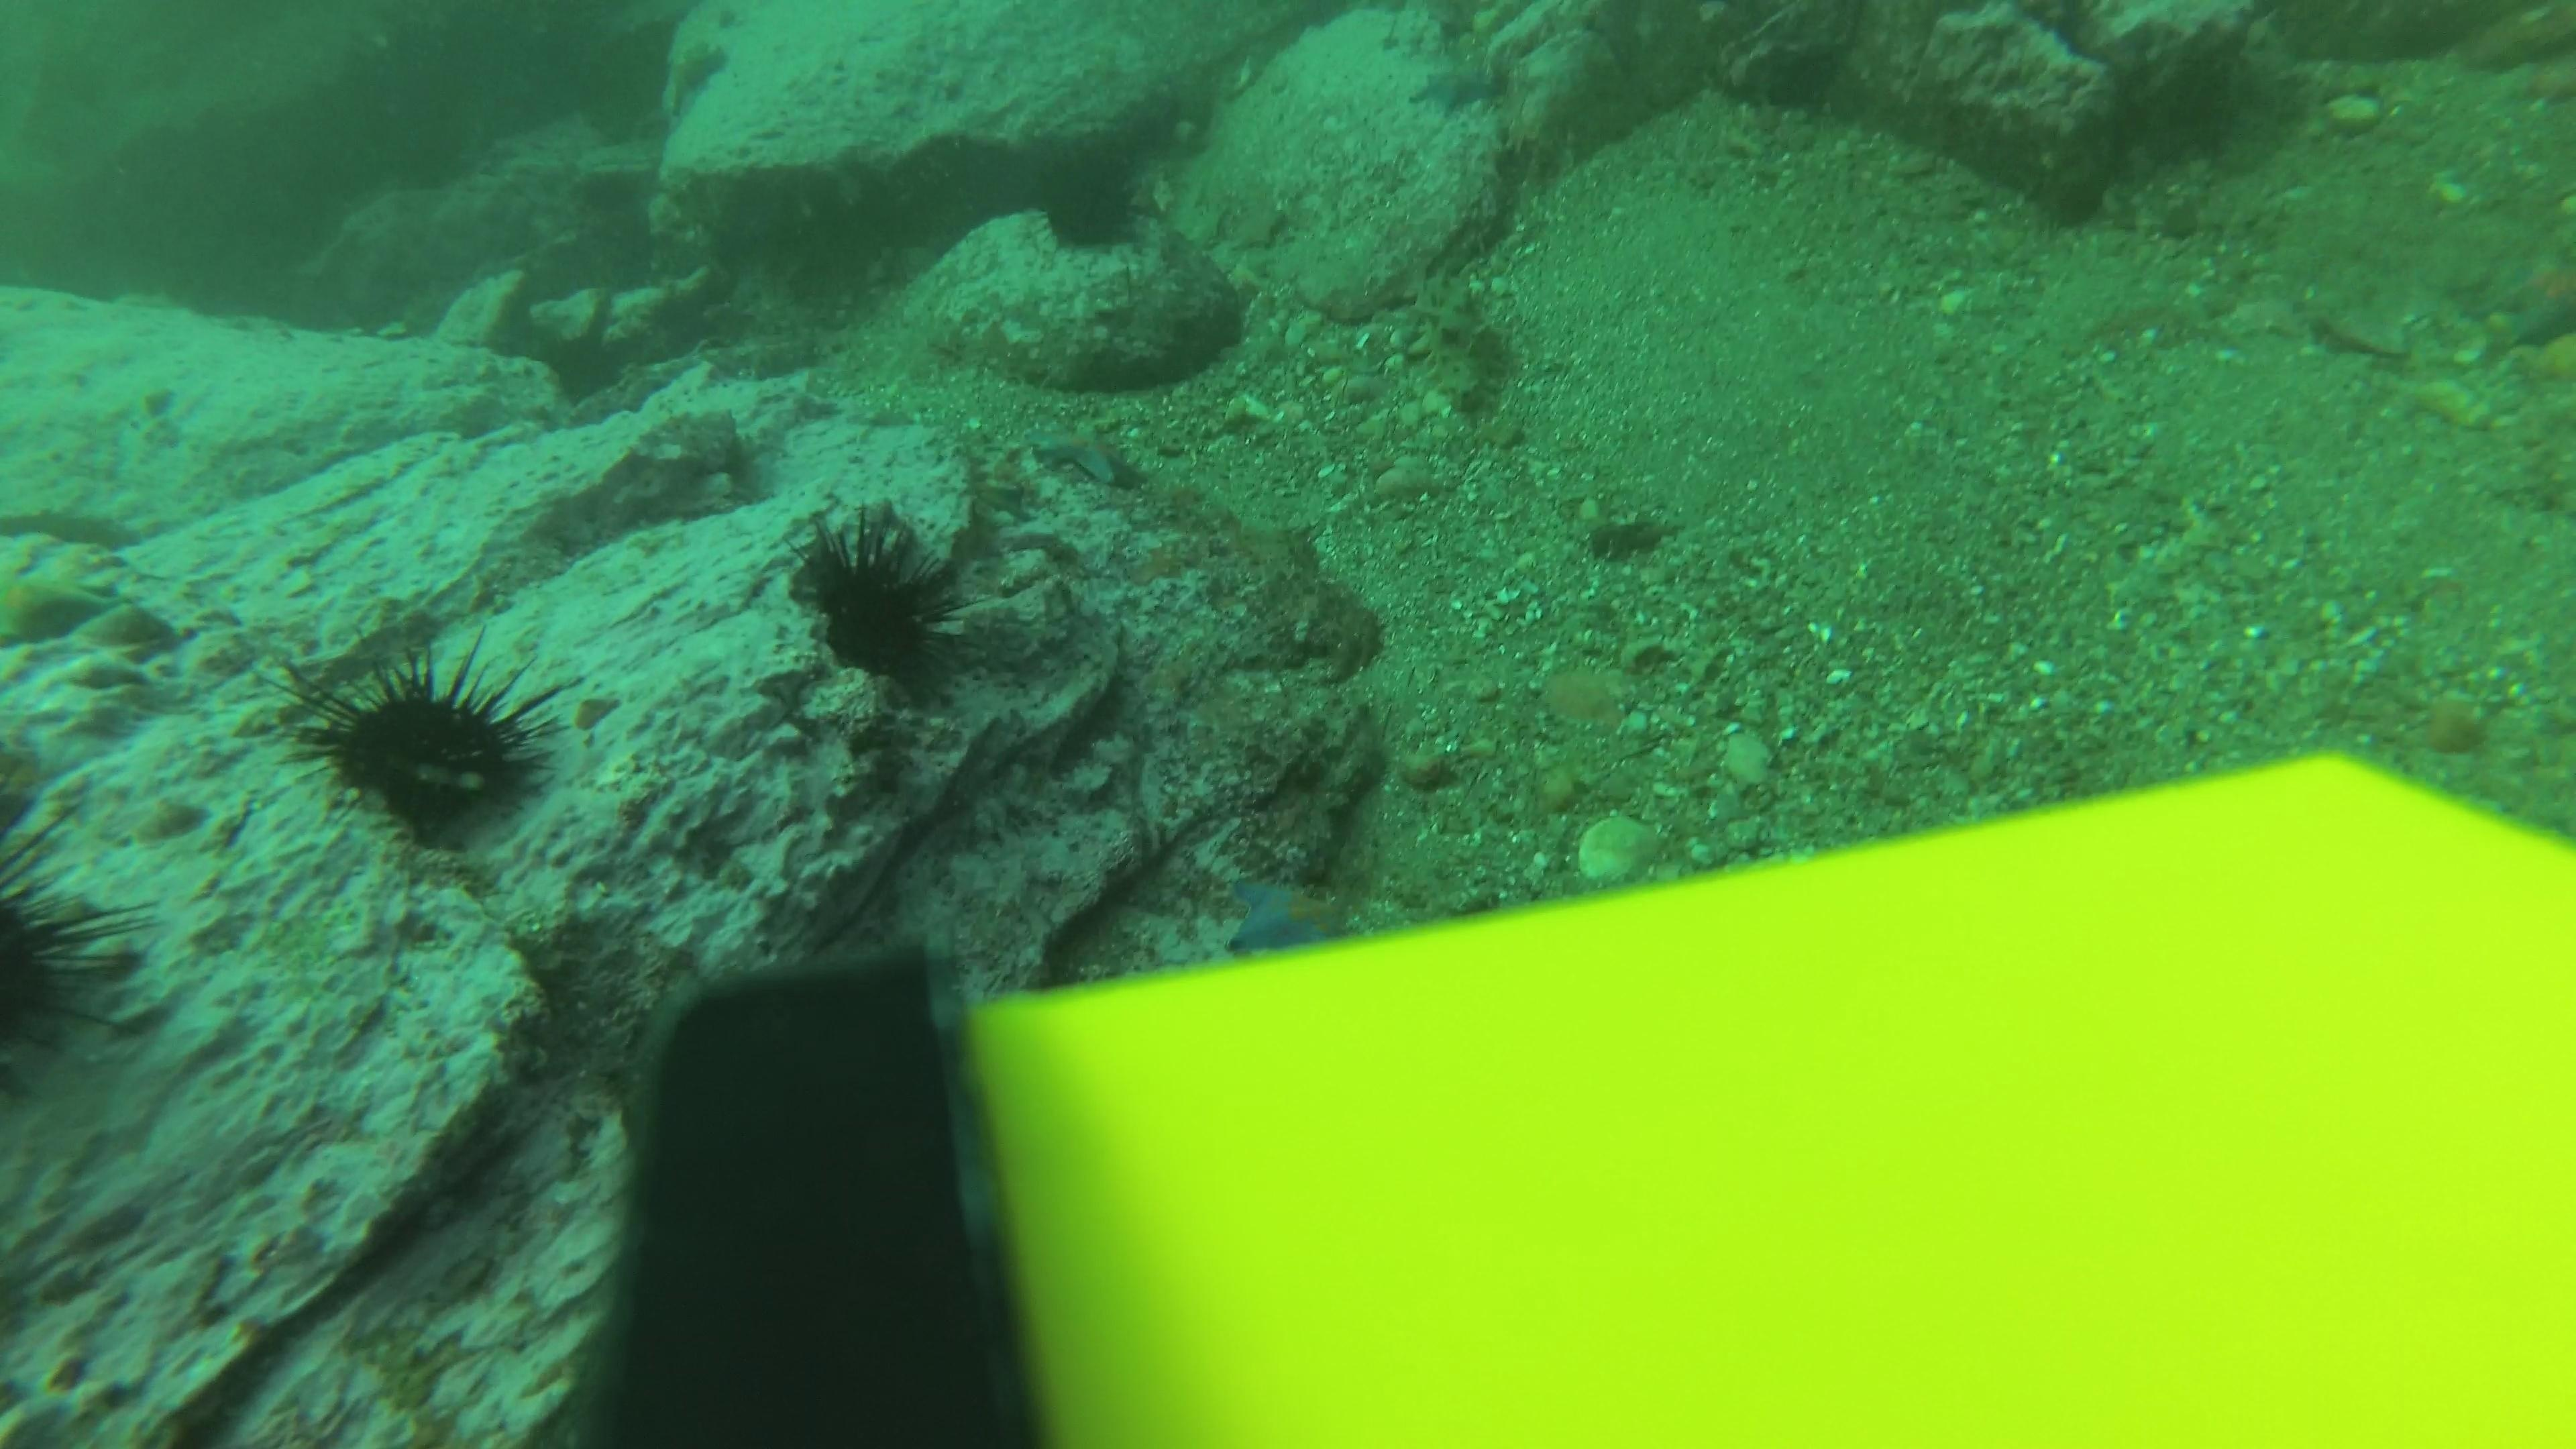echinus: (283, 632, 564, 846), (0, 816, 154, 1077), (782, 499, 975, 695), (1028, 145, 1152, 257)
holothurian: (1401, 274, 1525, 433)
starfish: (1219, 867, 1350, 952), (2, 566, 127, 651), (1019, 419, 1148, 494), (2493, 249, 2576, 352), (1408, 58, 1507, 117), (658, 37, 734, 103)
